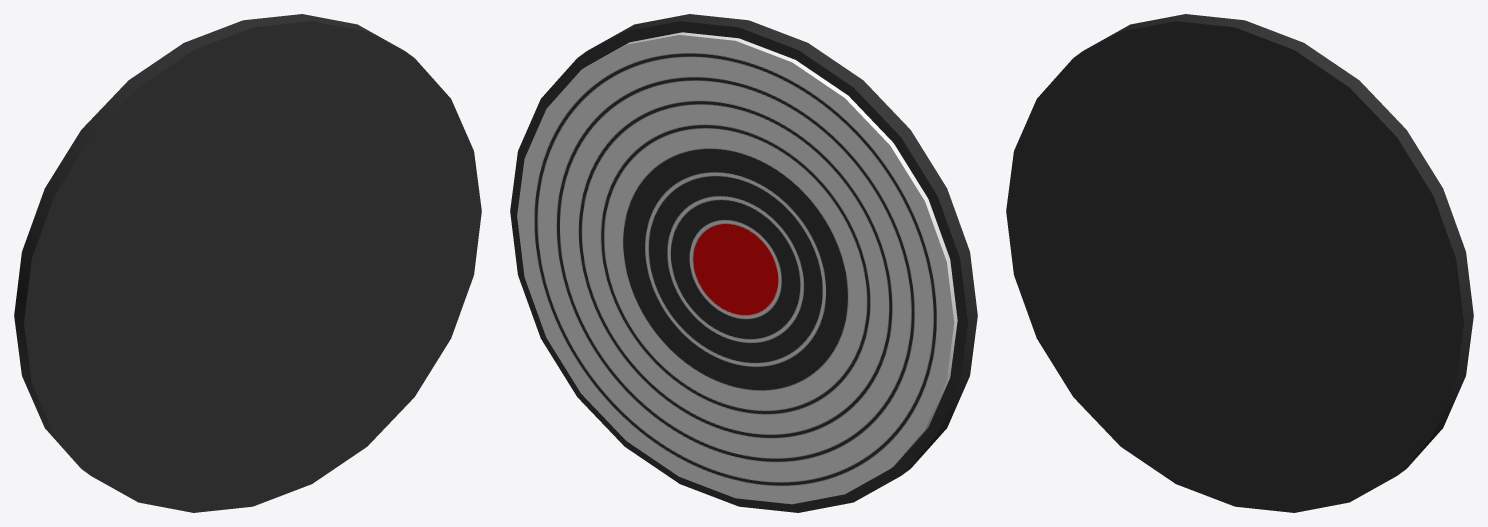
File: shooting-target.glb
3 views of the same model, side by side, from view 1: azimuth 30°, elevation 25°; view 2: azimuth 150°, elevation 25°; view 3: azimuth 330°, elevation 25° (orthographic).
Parts seen in each view (by area): view 1: target; view 2: target; view 3: target.
Part boxes in pixels (x1,y1,x2,y2): target: [14, 14, 481, 512]; target: [510, 14, 977, 512]; target: [1006, 14, 1473, 512].
Size of what is drawn, in the model's own units: 2 by 2 by 0.1.
1 material, 1 textured.
